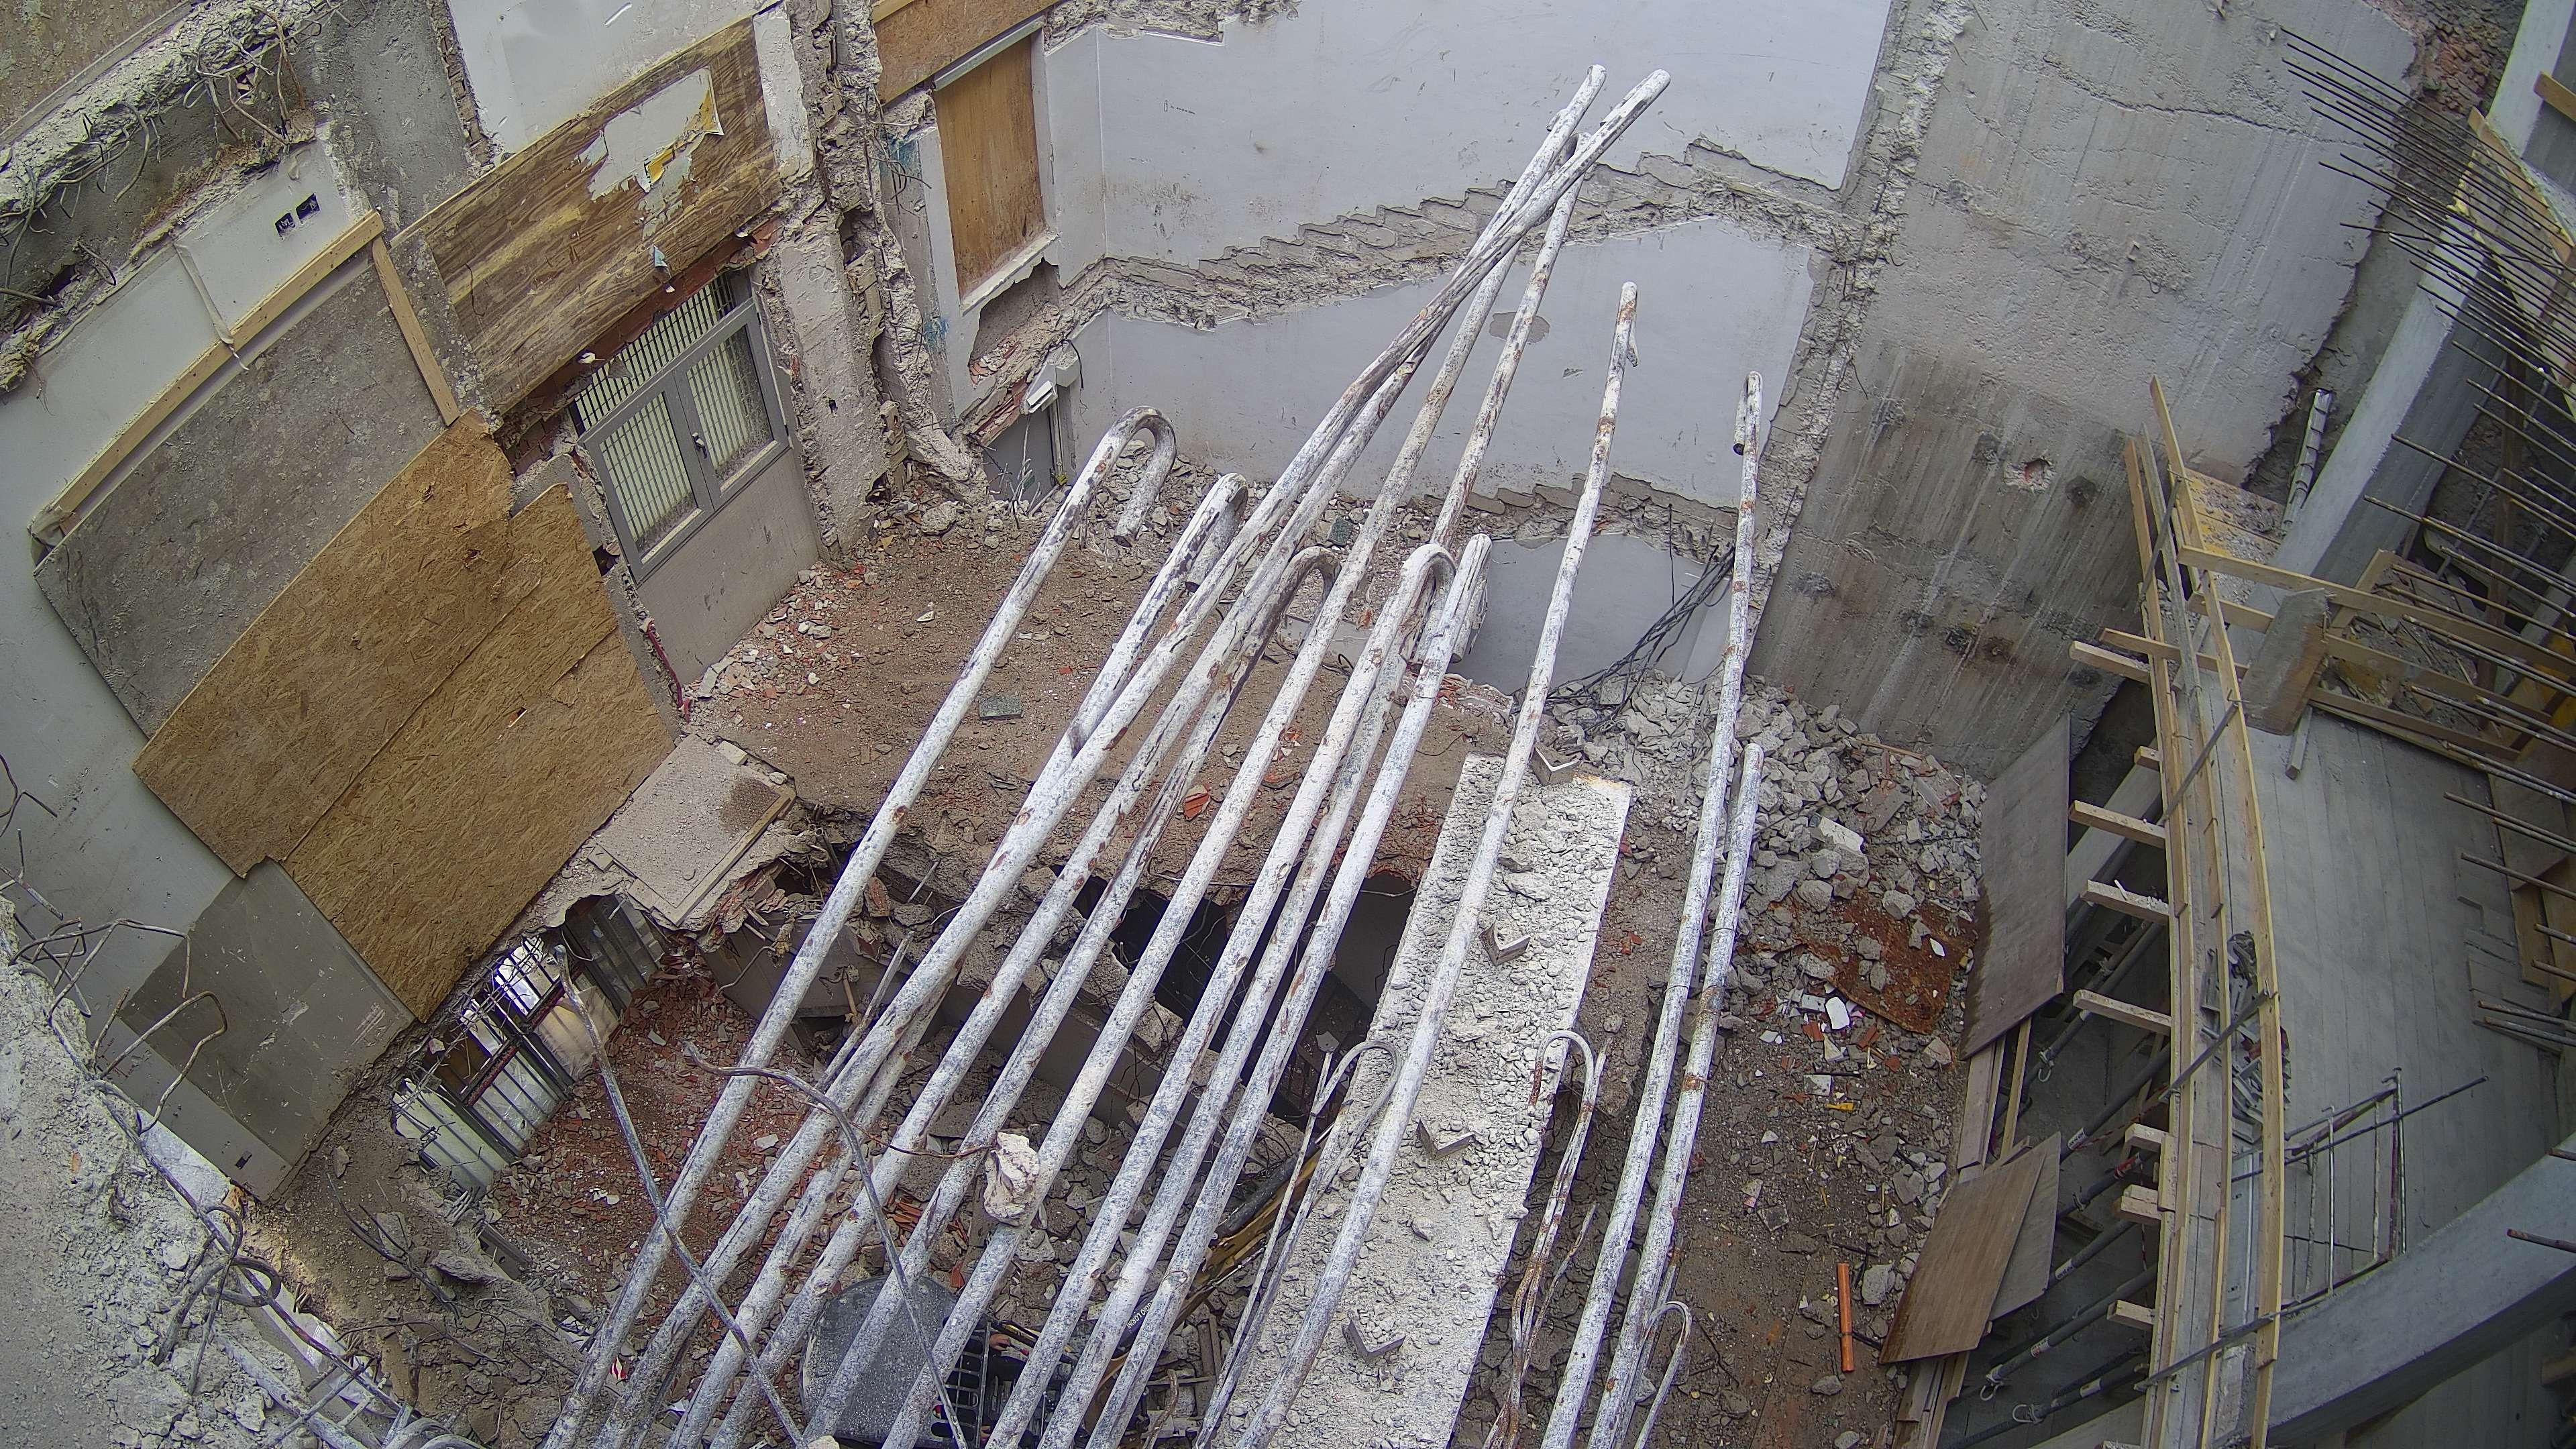excavator: (803, 1134, 1322, 1449)
